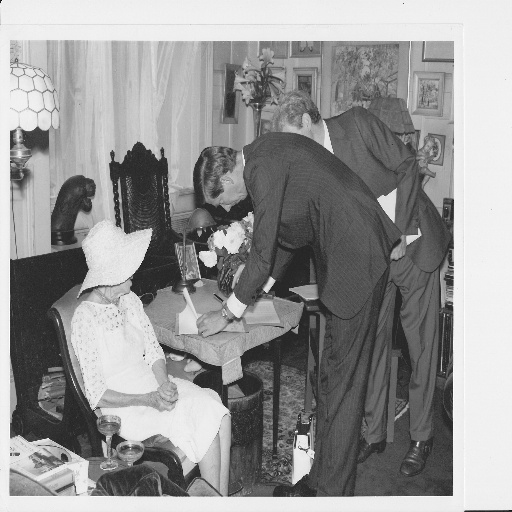hand: (196, 309, 228, 338), (146, 388, 176, 410), (156, 380, 179, 401), (388, 235, 405, 263), (232, 263, 244, 287), (220, 297, 228, 304)
